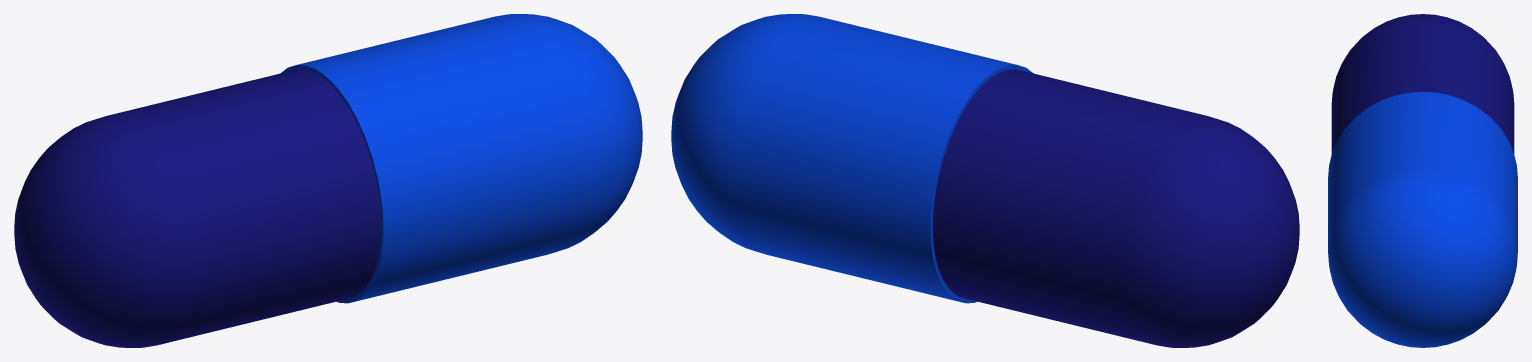
Rendered from CapsuleAbi.fbx.
3 renders of one model, left to right at view 1: azimuth 30°, elevation 25°; view 2: azimuth 150°, elevation 25°; view 3: azimuth 270°, elevation 25°, orthographic. The views are drawn at different scales.
Parts seen in each view (by area): view 1: Capsule; view 2: Capsule; view 3: Capsule.
Boxes of the visible parts, x1=… form: Capsule: x1=14, y1=14, x2=642, y2=347; Capsule: x1=671, y1=14, x2=1299, y2=347; Capsule: x1=1328, y1=14, x2=1517, y2=347.
Size of the model in its own units: 586 by 208 by 208.
